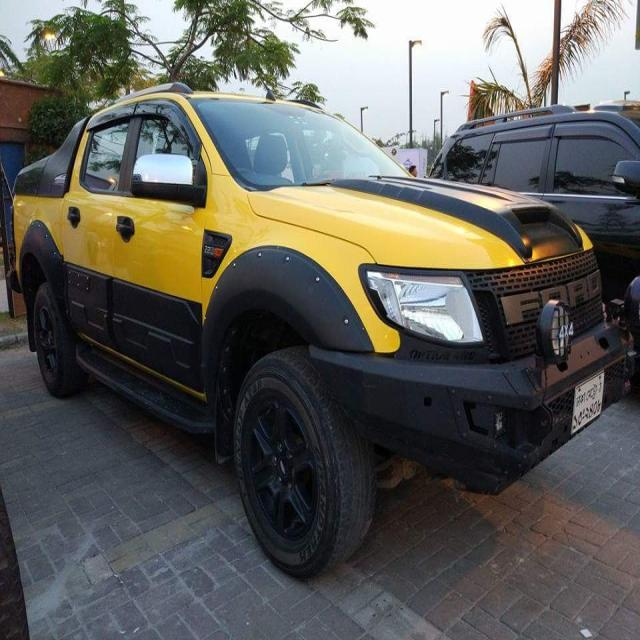numberplate: (570, 369, 605, 435)
